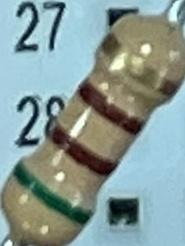Brown: (42, 117, 118, 183), (74, 76, 150, 139)
Green: (10, 156, 97, 232)
Side-Gold: (96, 31, 183, 101)
